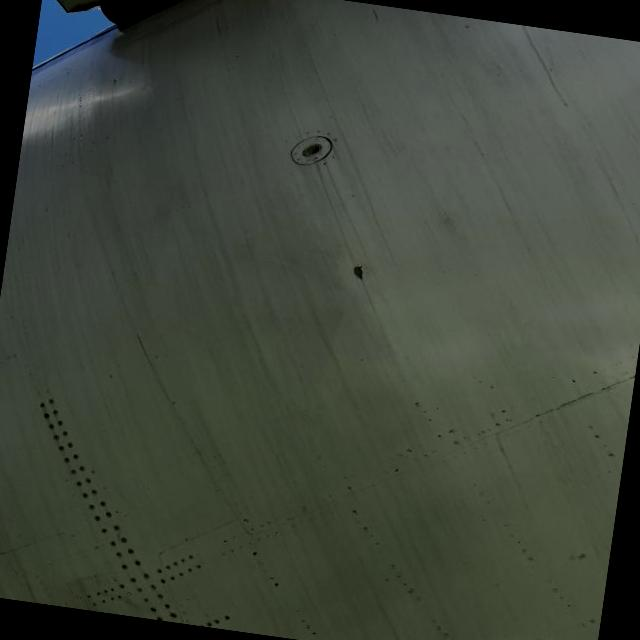crack: (129, 333, 166, 364), (356, 260, 368, 284)
